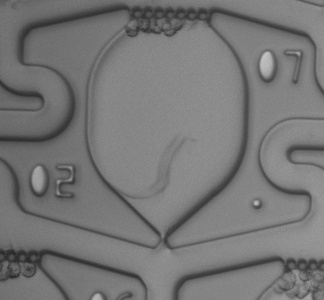AptNum: (251, 45, 313, 90)
Marker: (242, 190, 272, 217)
StNum: (23, 158, 85, 208)
Trap: (142, 239, 186, 281)
